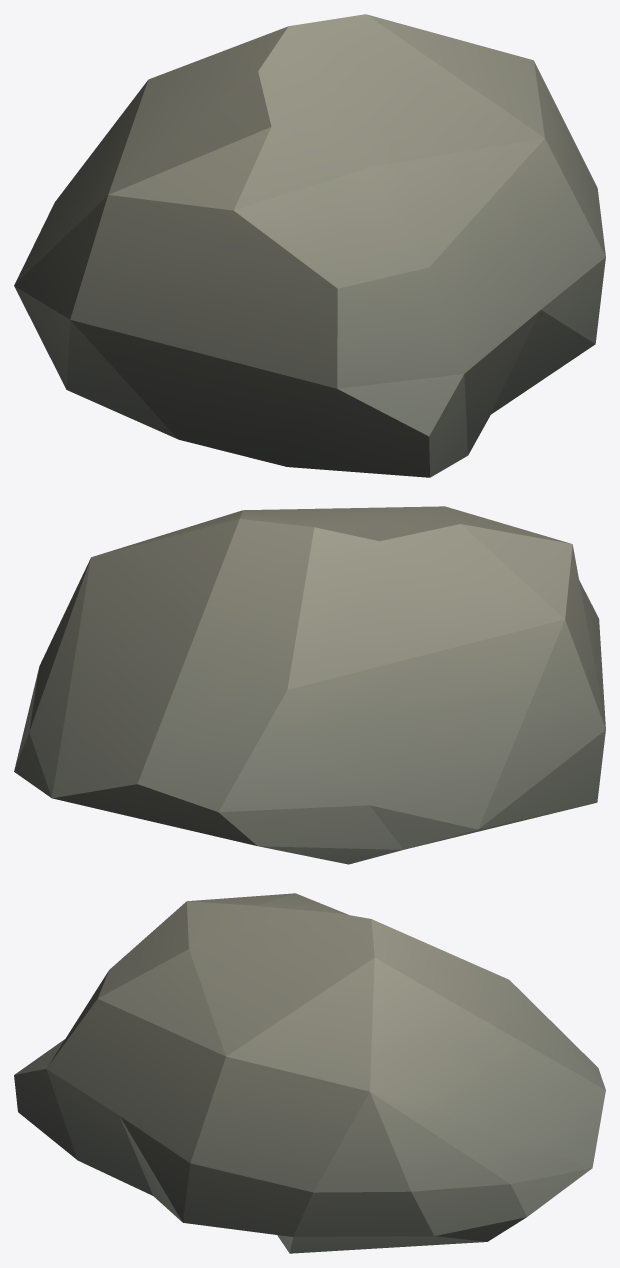
File: rock_1_01.fbx
3 views of the same model, one above another, from view 1: azimuth 30°, elevation 25°; view 2: azimuth 150°, elevation 25°; view 3: azimuth 270°, elevation 25° (orthographic). The views are drawn at different scales.
Visible parts, largest first — view 1: rock_1_01; view 2: rock_1_01; view 3: rock_1_01.
Part boxes in pixels (left/top/right/bottom): rock_1_01: left=14, top=14, right=605, bottom=477; rock_1_01: left=14, top=506, right=605, bottom=864; rock_1_01: left=14, top=893, right=605, bottom=1253.
Size of the model in its own units: 19.51 by 11.8 by 22.61.
